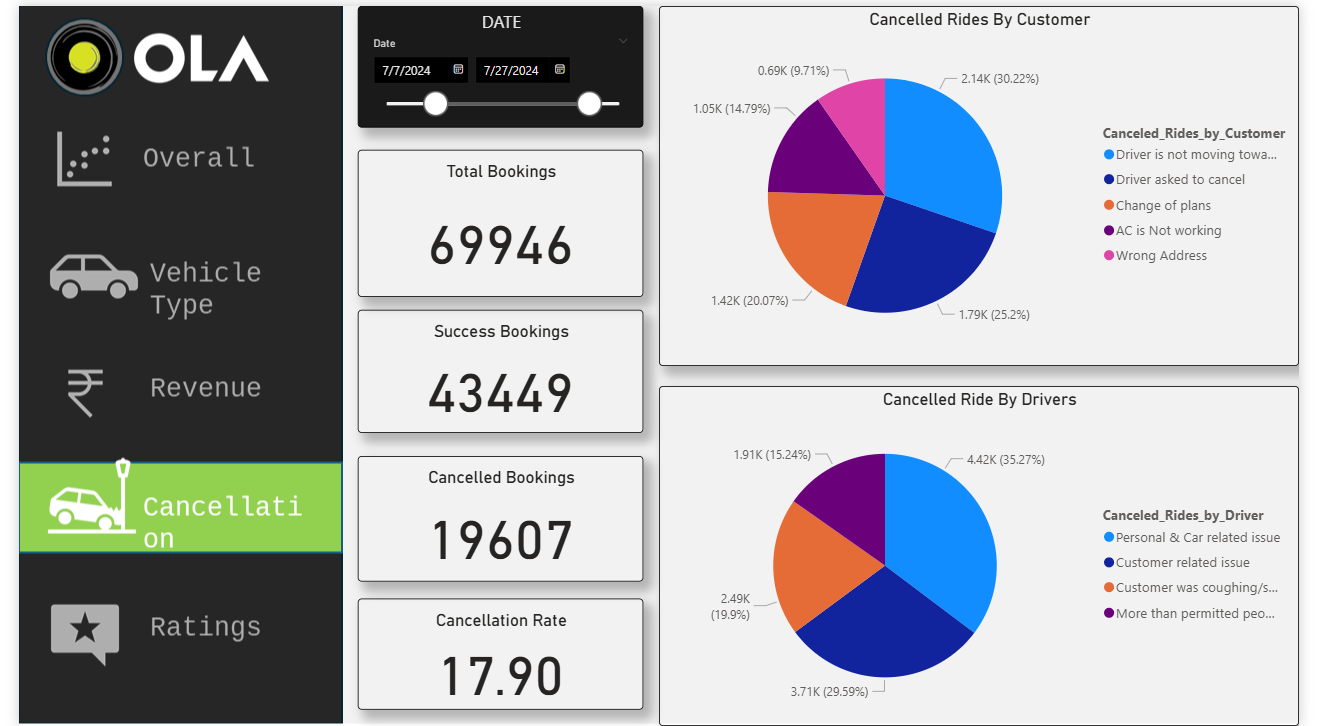

This screenshot's page, from the dashboard's own definition file:
{"tool":"powerbi","page":{"name":"Cancellation","canvas":[1280,720],"ordinal":3},"visuals":[{"type":"actionButton","box":[0,576.2,322.5,93.8],"z":0},{"type":"actionButton","box":[0,333.8,322.5,92.5],"z":1000},{"type":"actionButton","box":[0,227.5,322.5,92.5],"z":2000},{"type":"actionButton","box":[0,105,322.5,92.5],"z":3000},{"type":"pieChart","title":"Cancelled Rides By Customer","fields":{"Category":["July.Canceled_Rides_by_Customer"],"Y":["CountNonNull(July.Canceled_Rides_by_Customer)"]},"box":[640,0,640,360],"z":4000},{"type":"pieChart","title":"Cancelled  Ride By Drivers","fields":{"Category":["July.Canceled_Rides_by_Driver"],"Y":["CountNonNull(July.Canceled_Rides_by_Driver)"]},"box":[640,380,640,340],"z":5000},{"type":"slicer","title":"DATE","fields":{"Values":["July.Date"]},"box":[338.6,0,285.7,121.4],"z":6000},{"type":"card","title":"Total Bookings","fields":{"Values":["CountNonNull(July.Booking_ID)"]},"box":[338.6,144.3,285.7,147.1],"z":7000},{"type":"card","title":"Success Bookings","fields":{"Values":["CountNonNull(July.Booking_ID)"]},"box":[338.6,304.3,285.7,122.9],"z":8000},{"type":"card","title":"Cancelled Bookings","fields":{"Values":["CountNonNull(July.Booking_ID)"]},"box":[338.6,450,285.7,125.7],"z":9000},{"type":"card","title":"Cancellation Rate","fields":{"Values":["July.CanceledPercentage"]},"box":[338.6,592.9,285.7,111.4],"z":10000}]}

Visuals, with their boxes in screenshot pixels (x1, y1, x2, y2), scaled from the page's 1280x720 canvas onto the 1323x726 screenshot:
actionButton: [left=0, top=581, right=333, bottom=676]
actionButton: [left=0, top=337, right=333, bottom=430]
actionButton: [left=0, top=229, right=333, bottom=323]
actionButton: [left=0, top=106, right=333, bottom=199]
"Cancelled Rides By Customer" pieChart: [left=662, top=0, right=1322, bottom=363]
"Cancelled  Ride By Drivers" pieChart: [left=662, top=383, right=1322, bottom=725]
"DATE" slicer: [left=350, top=0, right=645, bottom=122]
"Total Bookings" card: [left=350, top=146, right=645, bottom=294]
"Success Bookings" card: [left=350, top=307, right=645, bottom=431]
"Cancelled Bookings" card: [left=350, top=454, right=645, bottom=580]
"Cancellation Rate" card: [left=350, top=598, right=645, bottom=710]
